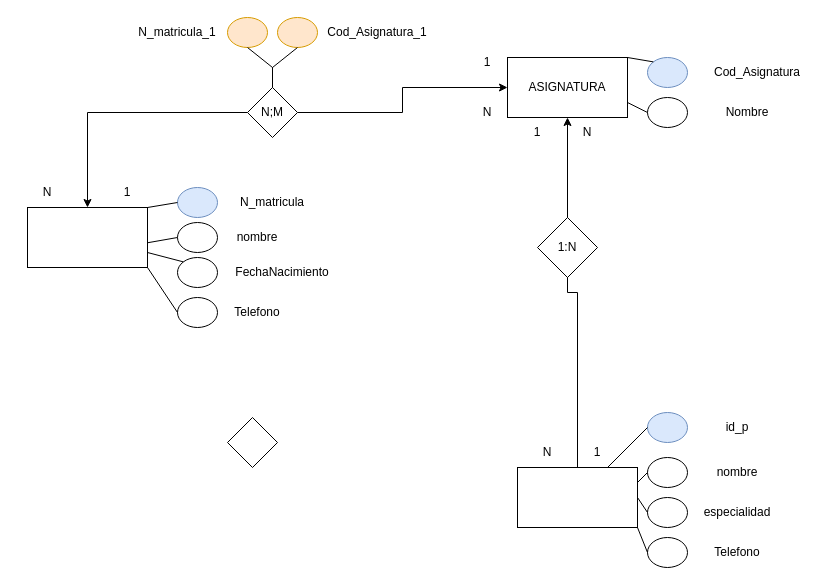
This 824x585 diagram has some shape labels left out. Each missing label, with the centre of its shape:
ALUMNO: [87,237]
PROFESOR: [577,497]
